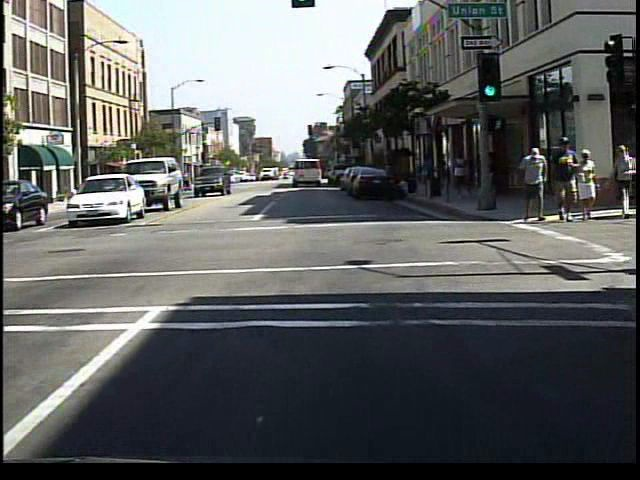person: (516, 145, 553, 229), (550, 134, 580, 227), (573, 148, 600, 228), (611, 141, 637, 221), (445, 147, 471, 201), (178, 169, 195, 197)
